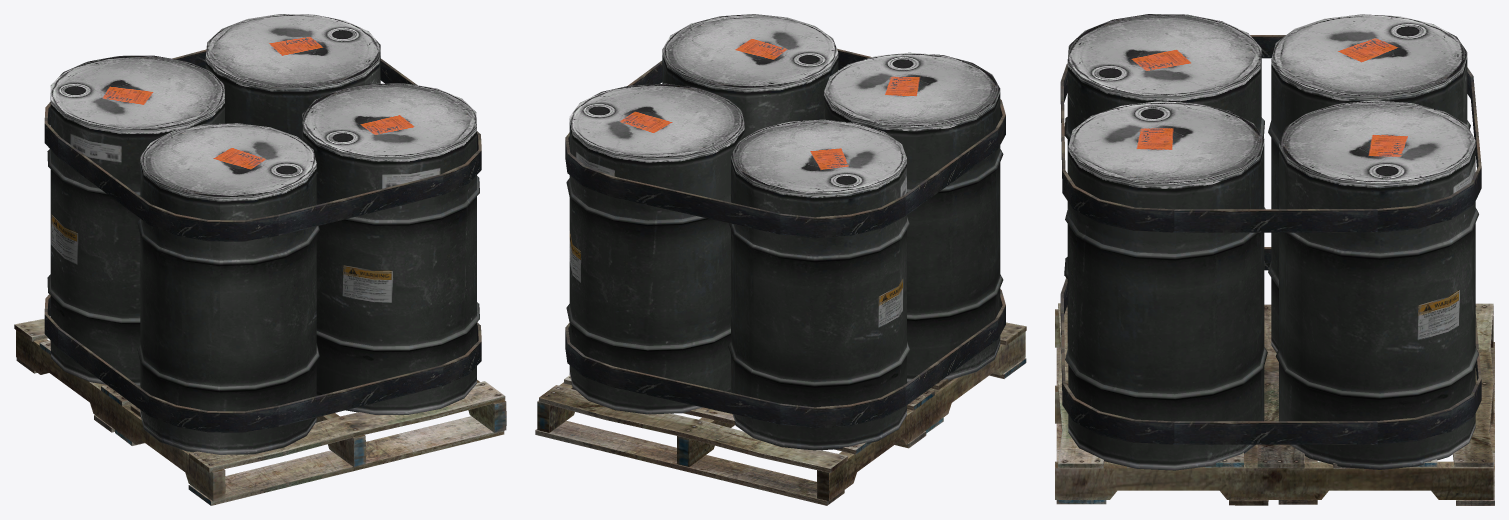
The model's file is pallet_barrels_water01.glb.
The picture shows the model from 3 angles, left to right: view 1: azimuth 30°, elevation 25°; view 2: azimuth 150°, elevation 25°; view 3: azimuth 270°, elevation 25°; orthographic projection. The views are drawn at different scales.
Visible parts, largest first — view 1: pallet_barrels_water01; view 2: pallet_barrels_water01; view 3: pallet_barrels_water01.
Part boxes in pixels (bbox=[...]): pallet_barrels_water01: bbox=[14, 14, 506, 505]; pallet_barrels_water01: bbox=[535, 14, 1026, 505]; pallet_barrels_water01: bbox=[1055, 14, 1494, 505].
Size of the model in its own units: 1.13 by 0.9764 by 1.19.
Materials: 2 (2 with a texture image).
